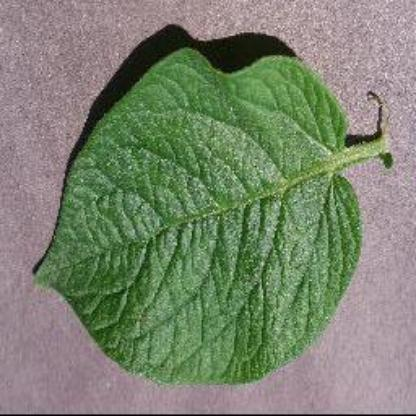Healthy-plant: (27, 25, 399, 390)
